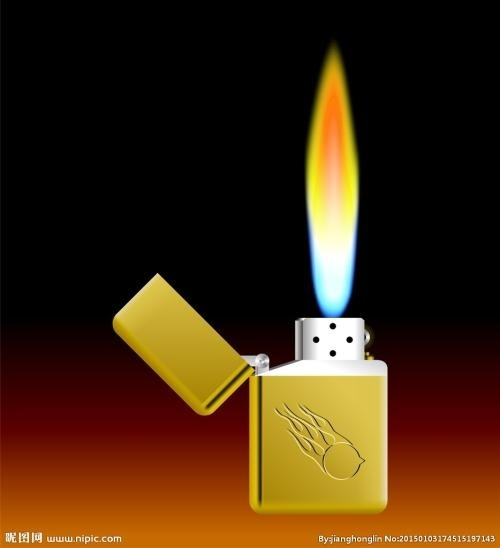fire: (305, 35, 361, 314)
